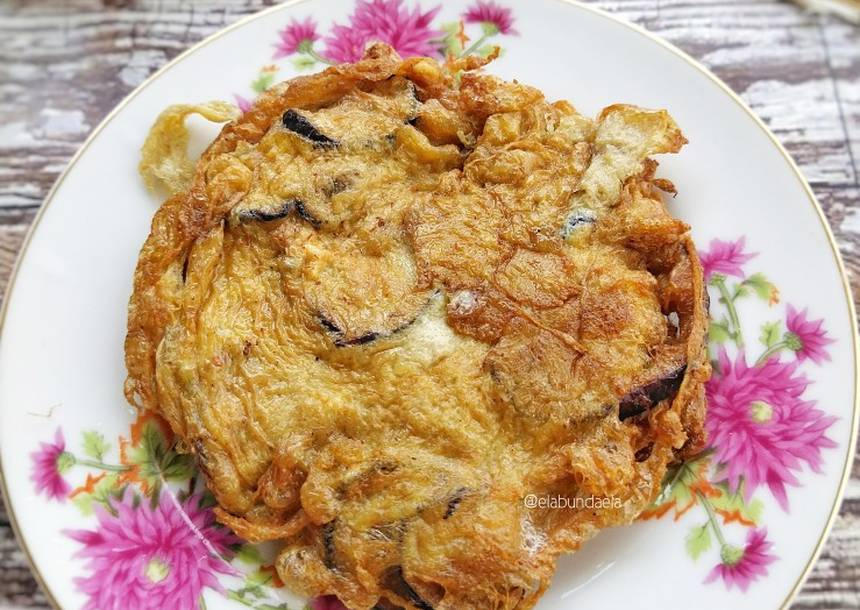Telur: (139, 41, 725, 610)
